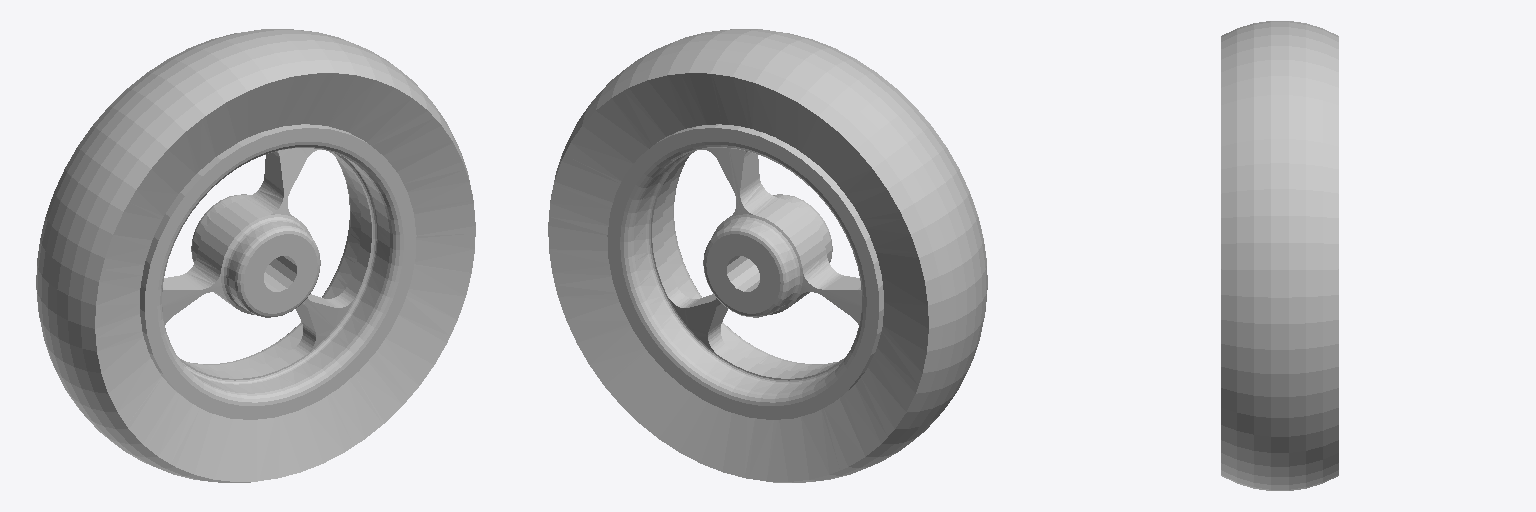
The model's file is frogleg_caster_wheel.obj.
The picture shows the model from 3 angles: view 1: azimuth 30°, elevation 25°; view 2: azimuth 150°, elevation 25°; view 3: azimuth 270°, elevation 25°; orthographic projection.
Size of the model in its own units: 0.1521 by 0.1521 by 0.0381.